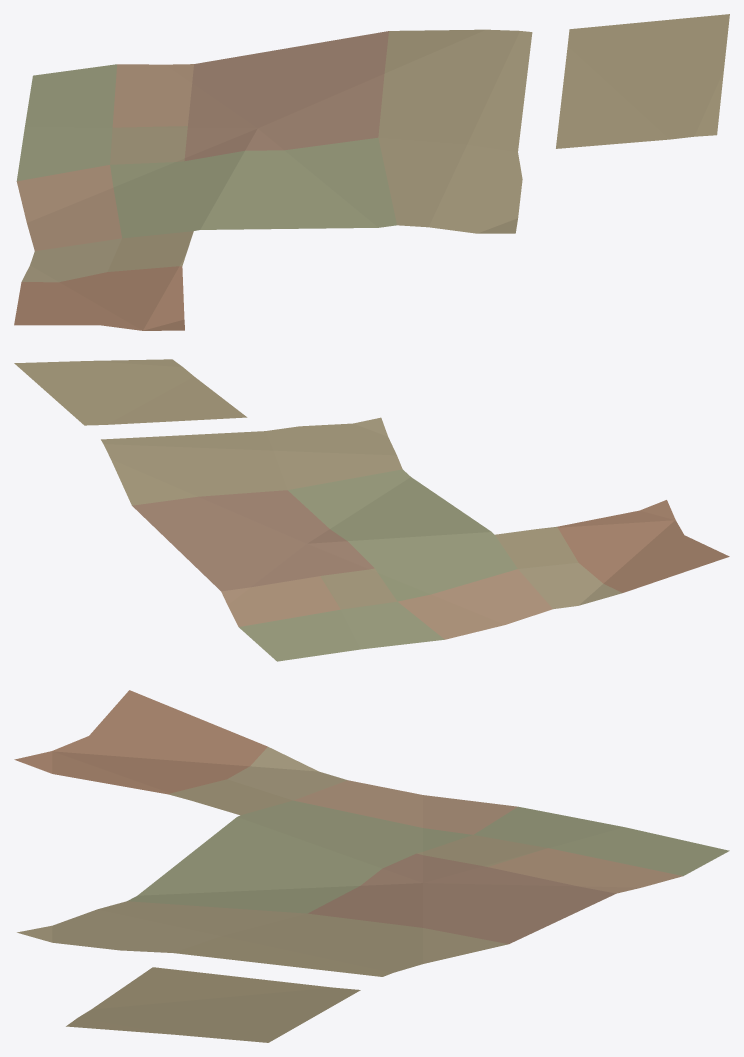
File: farm_-50_-40_soil.glb
3 views of the same model, one above another, from view 1: azimuth 30°, elevation 25°; view 2: azimuth 150°, elevation 25°; view 3: azimuth 270°, elevation 25° (orthographic). The views are drawn at different scales.
Visible parts, largest first — view 1: geometry_0; view 2: geometry_0; view 3: geometry_0.
Part boxes in pixels (left/top/right/bottom): geometry_0: left=14, top=14, right=729, bottom=330; geometry_0: left=14, top=359, right=729, bottom=661; geometry_0: left=14, top=690, right=729, bottom=1042.
Bounding box in the file's own units: 228 × 28.52 × 155.
